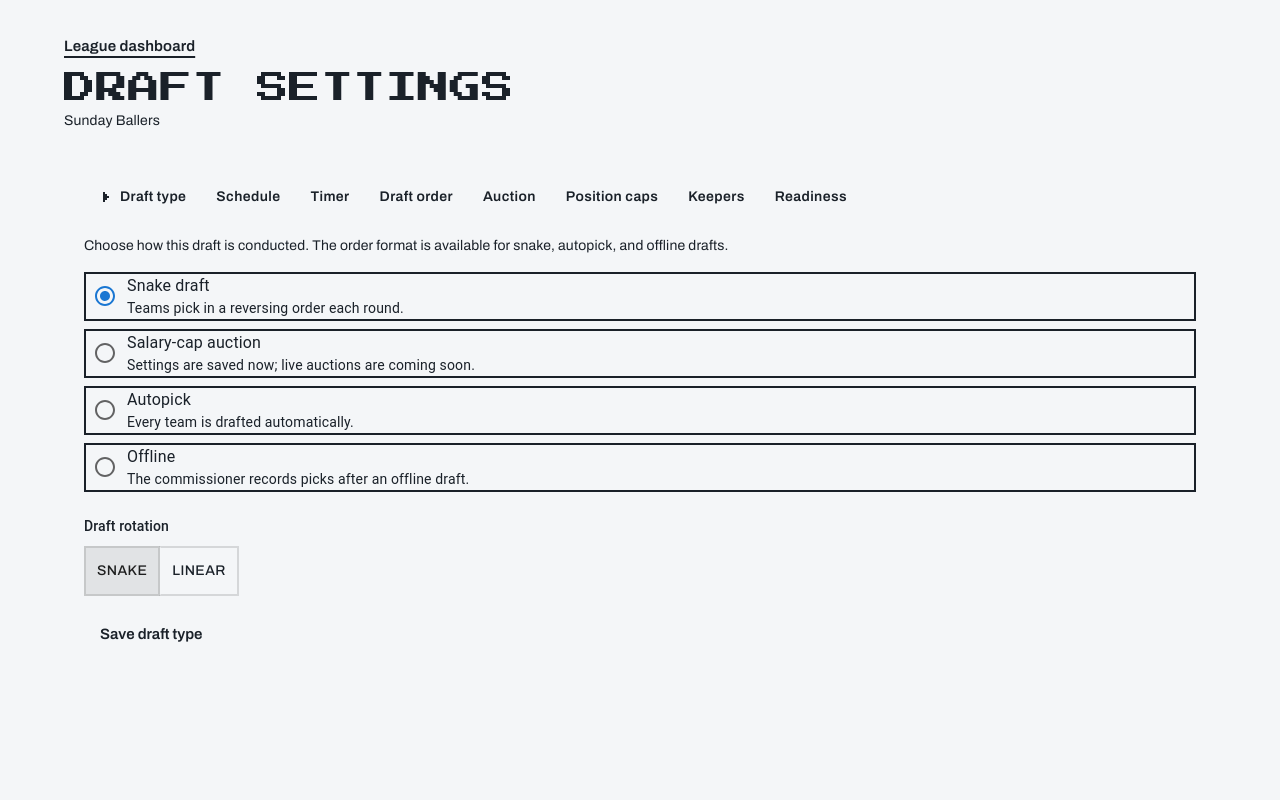
Test: confirms before discarding unsaved edits when switching tabs
The width and height of the screenshot is (1280, 800).
Expected: the text "Sunday Ballers" is shown, 64,113 -> 160,128
Click the radio button labelled "Autopick Every team is drafted automatically." at (159, 399), box 83,388 -> 354,433
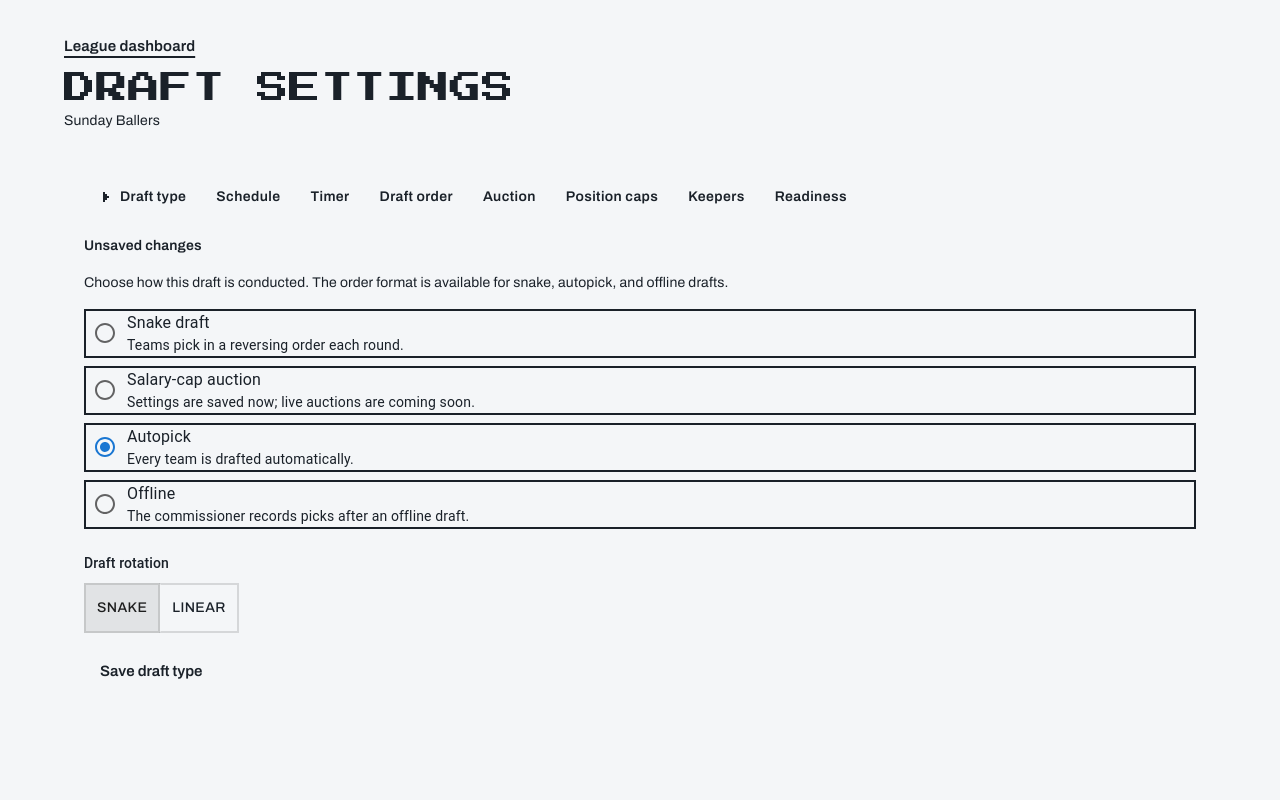
Click the tab "Timer" at (330, 197), box 294,175 -> 366,219
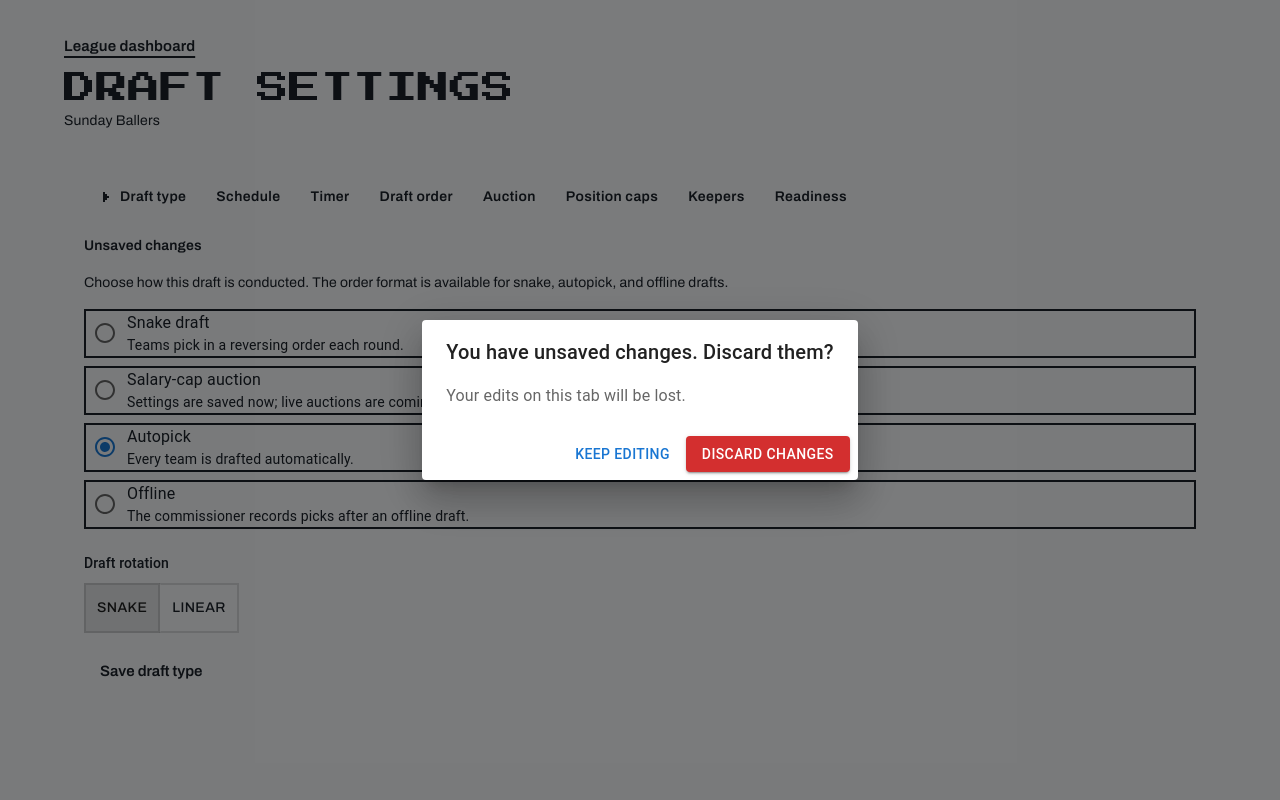
Expected: the heading "You have unsaved changes. Discard them?" is shown, 446,340 -> 834,364
Click the button "Keep editing" at (623, 454), box 567,436 -> 678,472
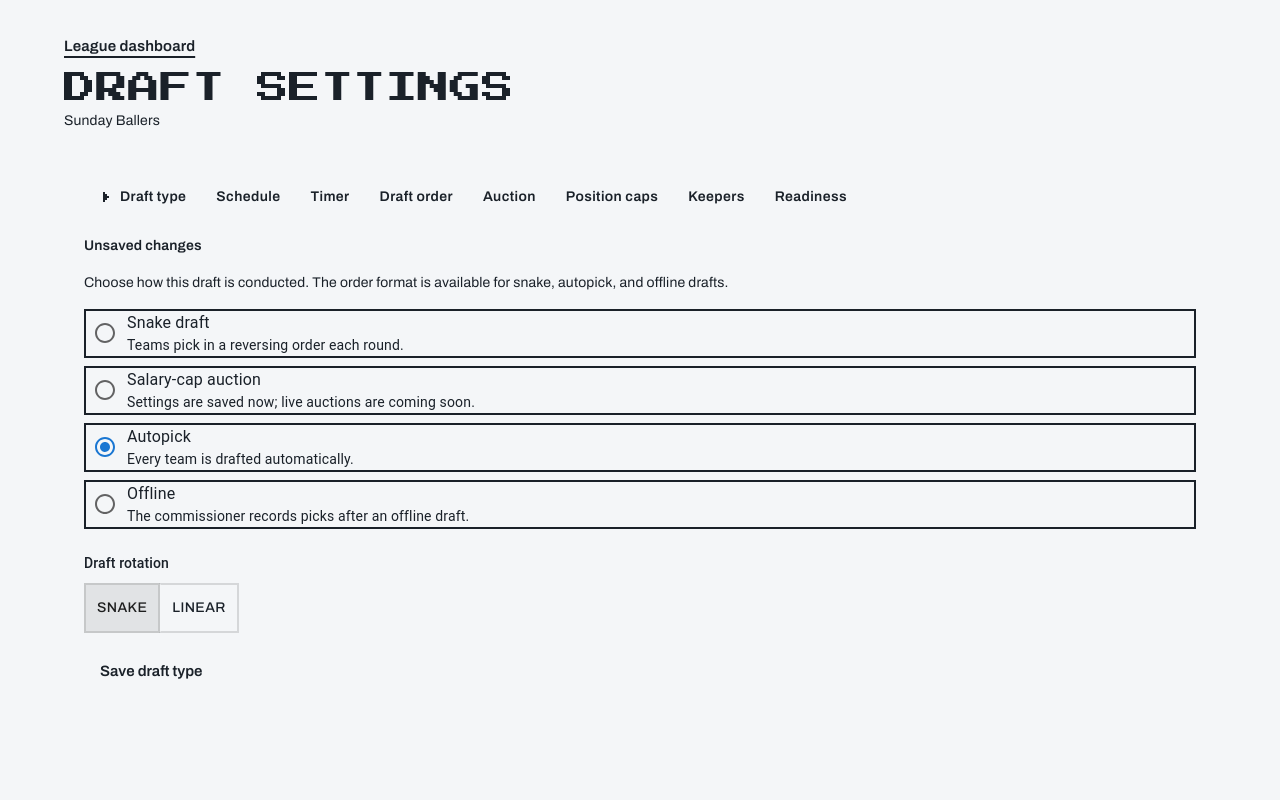
Expected: the radio button labelled "Autopick Every team is drafted automatically." is checked, 83,425 -> 354,470
Expected: the heading "You have unsaved changes. Discard them?" is gone
Click the tab "Timer" at (330, 197), box 294,175 -> 366,219
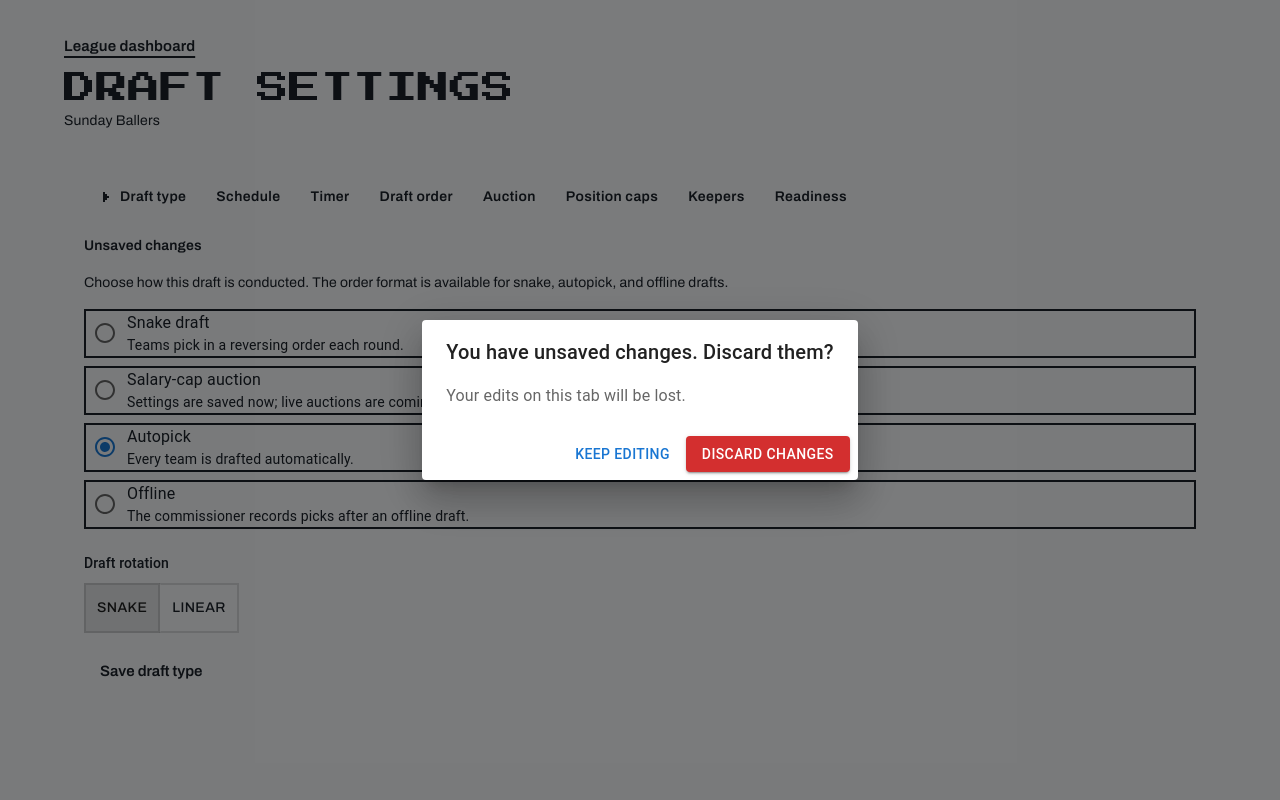
Click the button "Discard changes" at (768, 454), box 686,436 -> 850,472
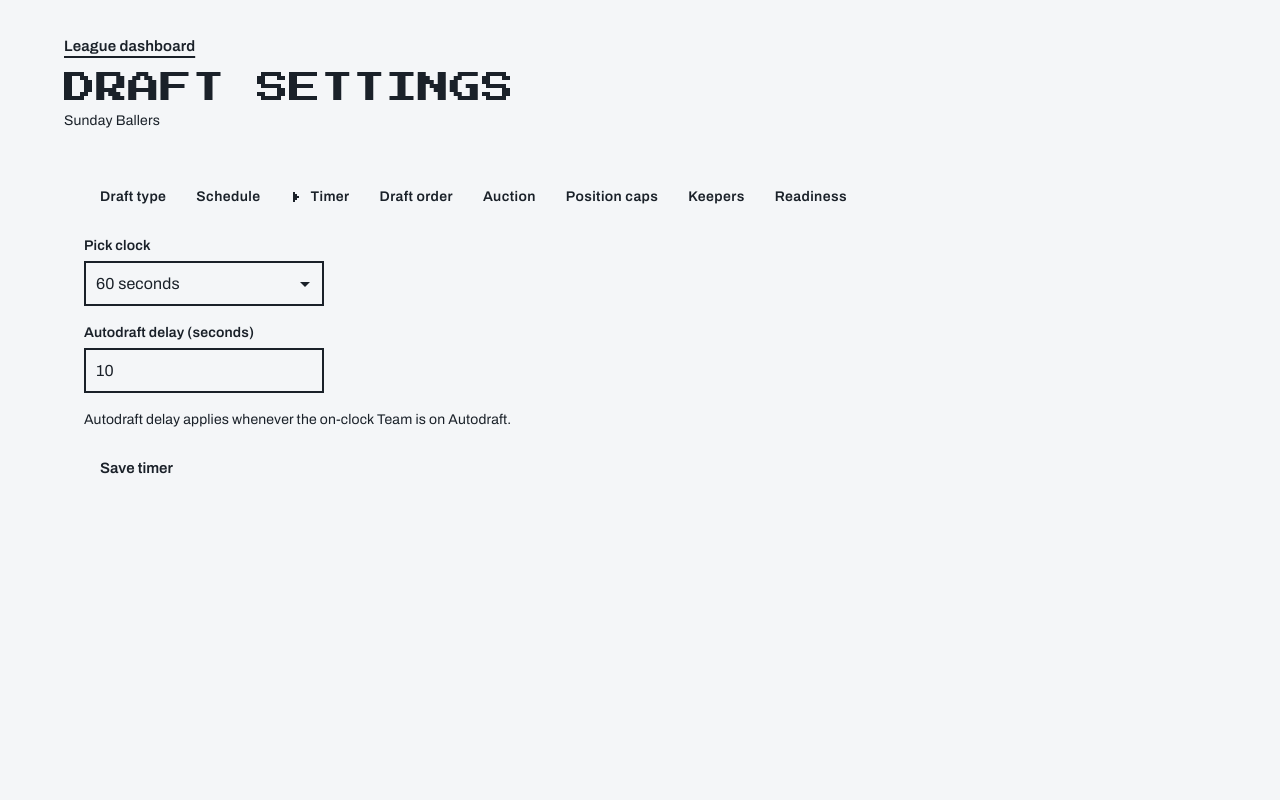
Expected: the heading "You have unsaved changes. Discard them?" is gone
Expected: the button "Save timer" is shown, 84,446 -> 189,490
